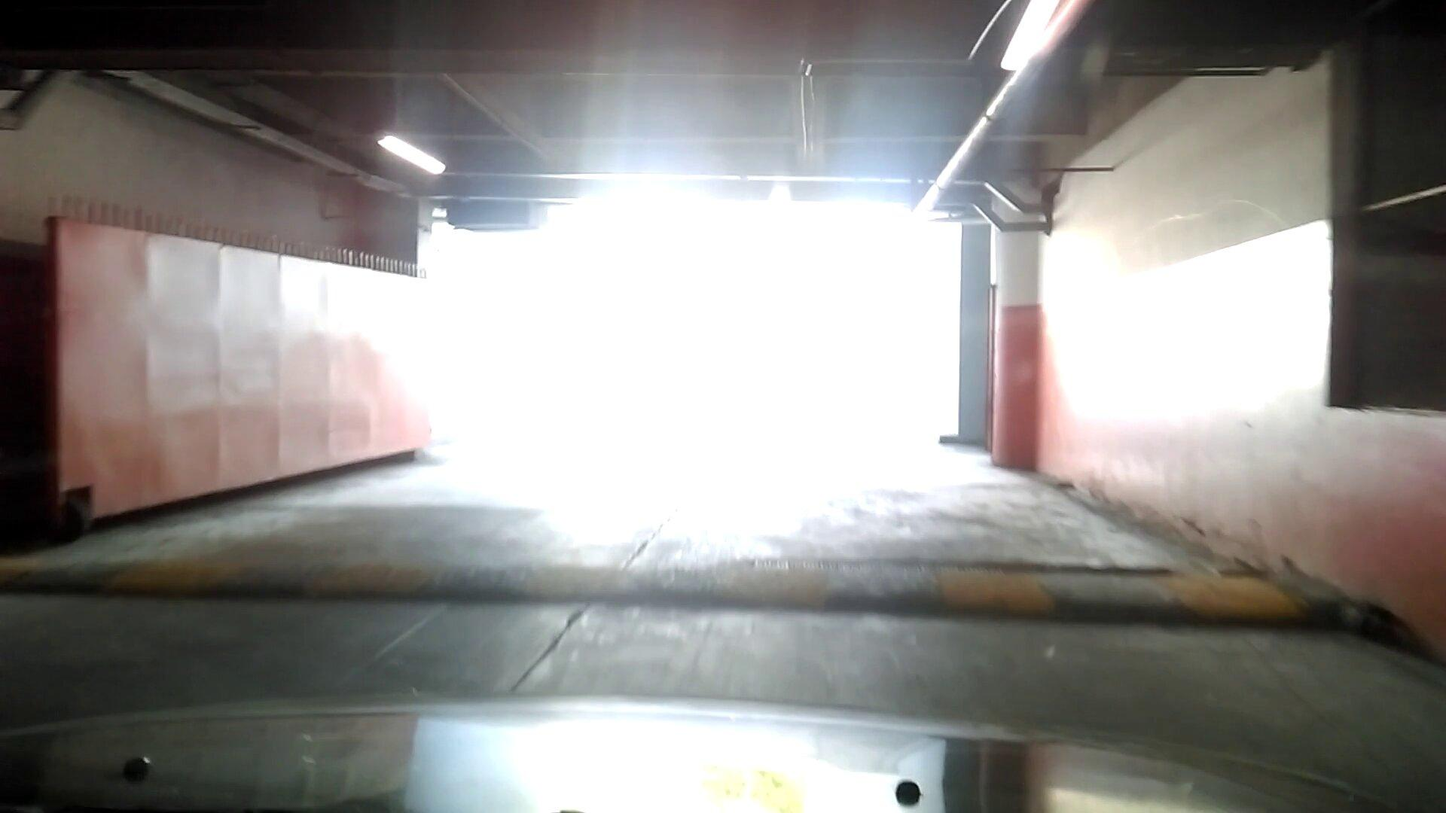Bump: (9, 563, 1446, 672)
